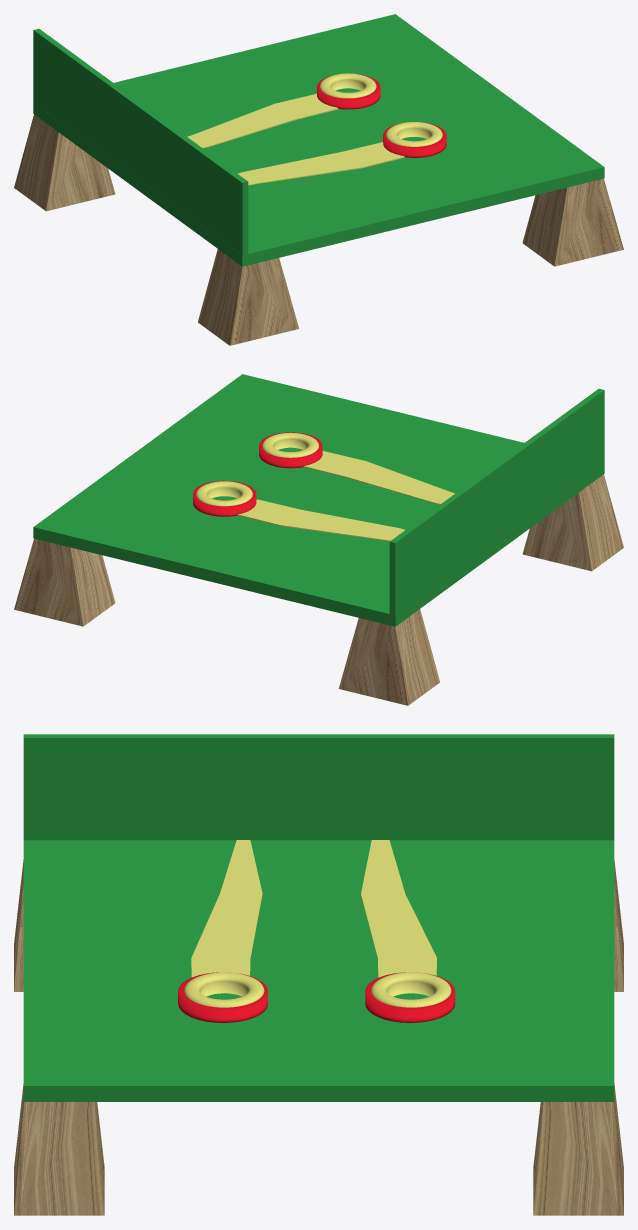
The model's file is CapacitorSurface.glb.
3 views of the same model, one above another, from view 1: azimuth 30°, elevation 25°; view 2: azimuth 150°, elevation 25°; view 3: azimuth 270°, elevation 25° (orthographic). The views are drawn at different scales.
Visible parts, largest first — view 1: Основа контакта 2.002; view 2: Основа контакта 2.002; view 3: Основа контакта 2.002.
Boxes of the visible parts, x1,y1,x2,y2 form: Основа контакта 2.002: (14,14,623,345); Основа контакта 2.002: (14,374,623,705); Основа контакта 2.002: (14,734,623,1215).
Size of the model in its own units: 1.24 by 0.4695 by 1.17.
4 materials, 1 textured.
